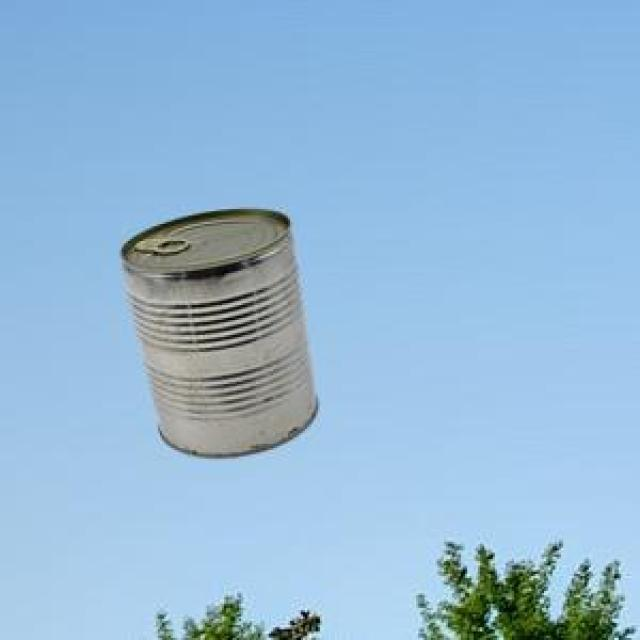Can: (118, 206, 315, 455)
